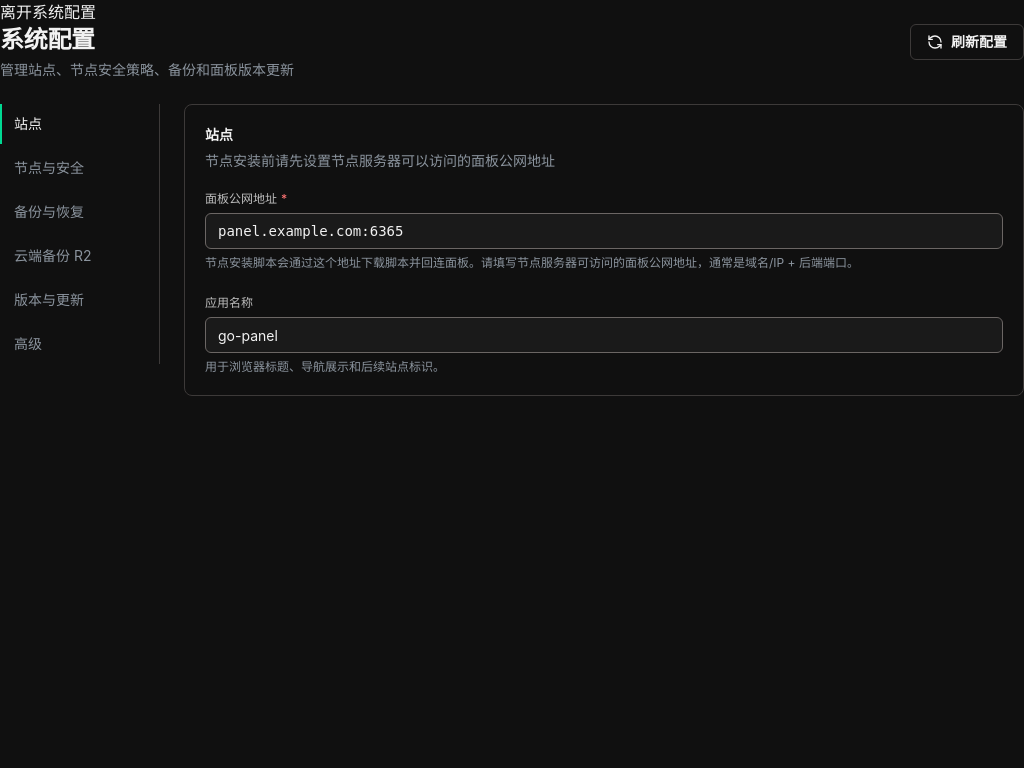
Test: 系统配置页的真实路由和草稿 › 离开页面被拦截、取消保留草稿、确认才离开
The width and height of the screenshot is (1024, 768).
Expected: the heading "系统配置" is shown, 0,25 -> 95,54
Type "未保存" into the field labelled "应用名称" at (604, 335), box 205,317 -> 1003,353
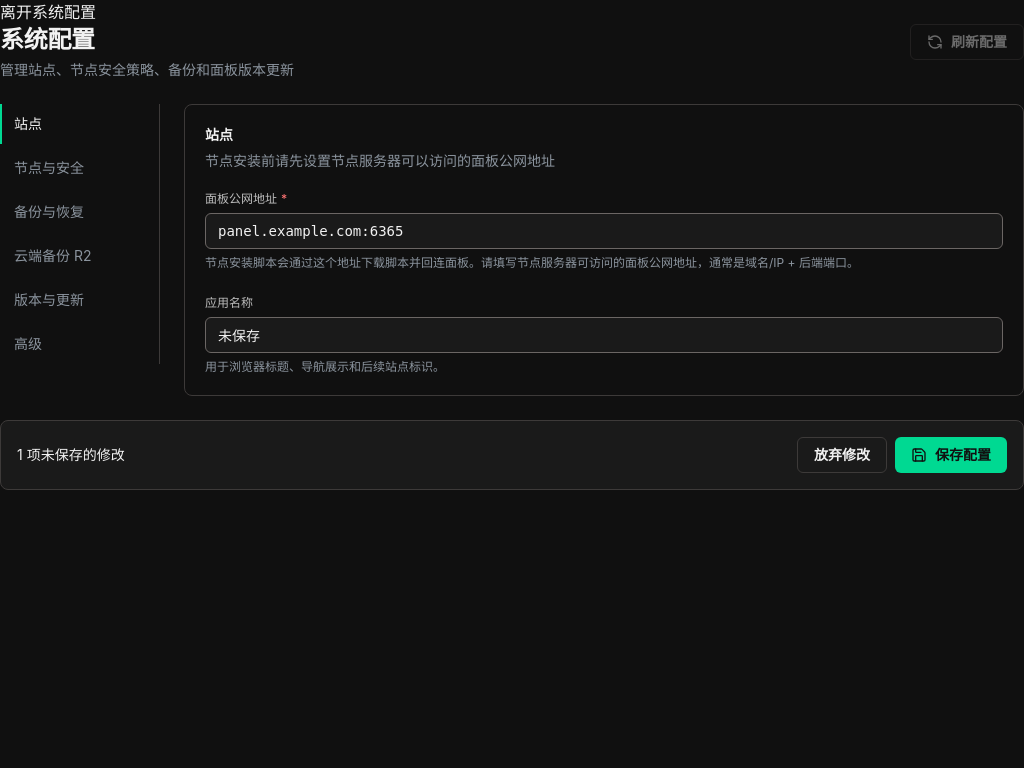
Click the link "离开系统配置" at (48, 12), box 0,2 -> 96,22
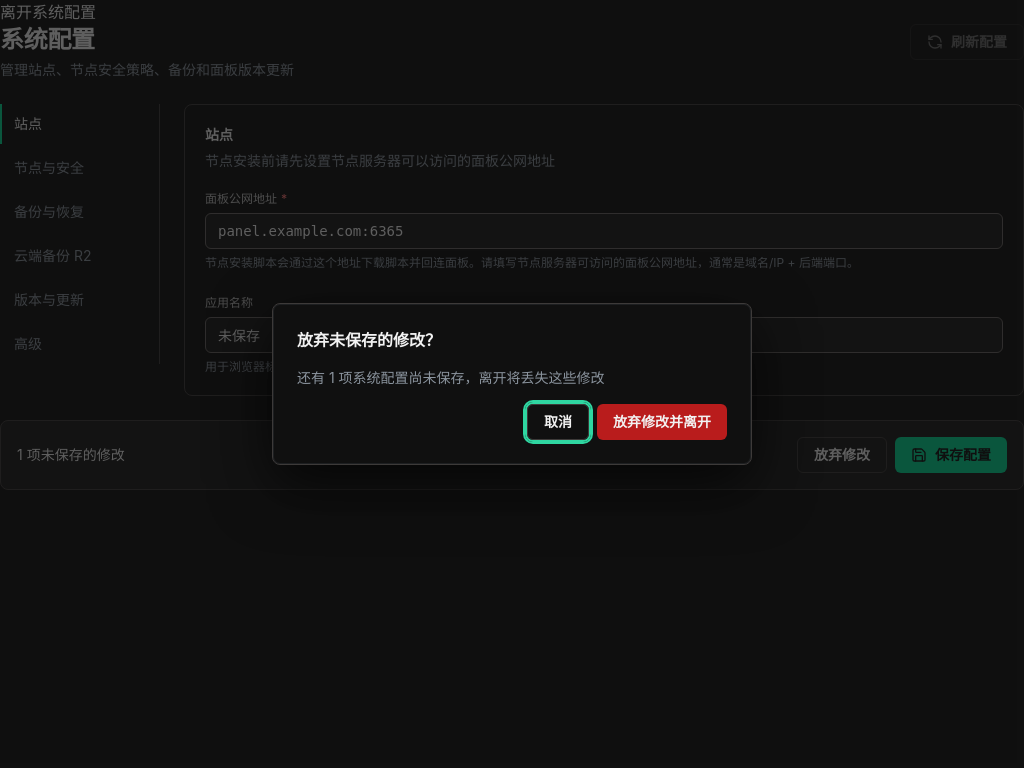
Click the button "取消" at (558, 422), box 527,404 -> 589,440
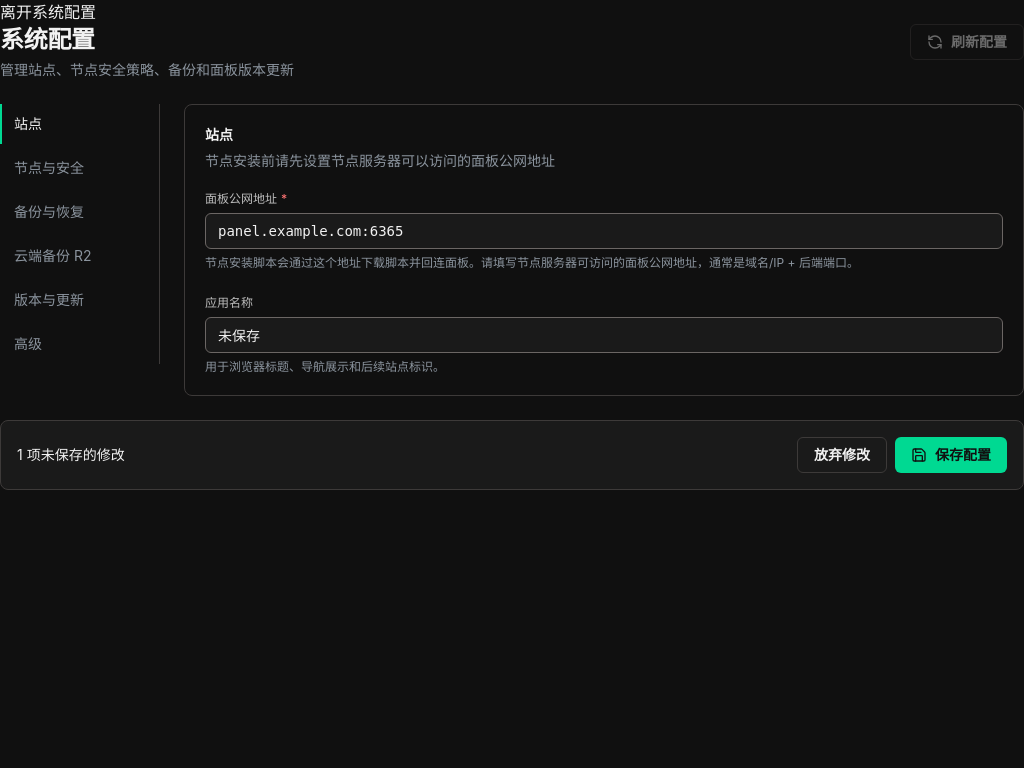
Expected: the dialog is gone
Click the link "离开系统配置" at (48, 12), box 0,2 -> 96,22
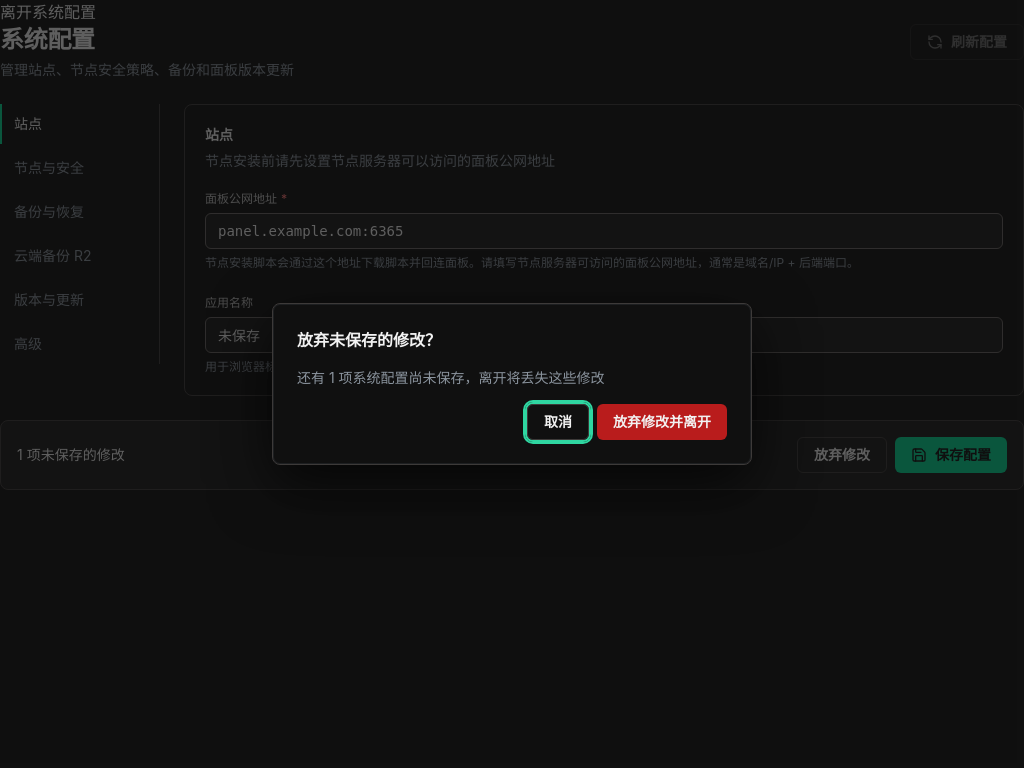
Click the button "放弃修改并离开" at (662, 422), box 597,404 -> 727,440
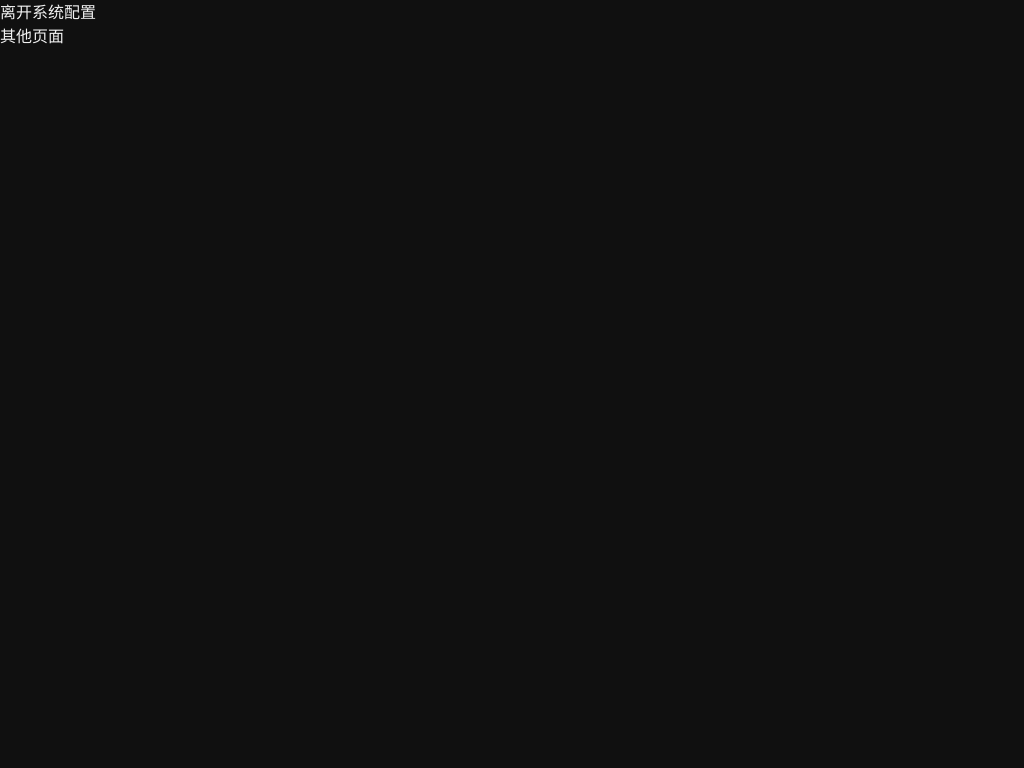
Expected: the text "其他页面" is shown, 0,26 -> 64,46
